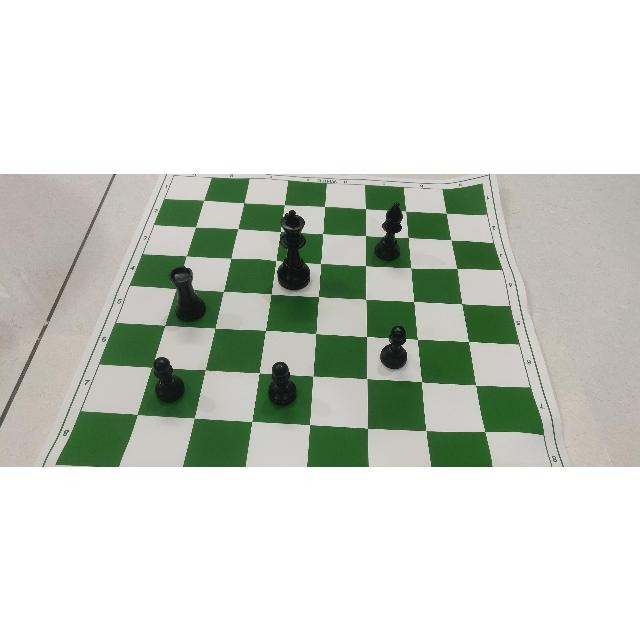black-bishop: (369, 200, 409, 262)
black-king: (269, 205, 315, 289)
black-pawn: (261, 355, 307, 409), (144, 351, 188, 403), (372, 322, 414, 374)
black-rook: (162, 265, 211, 323)
